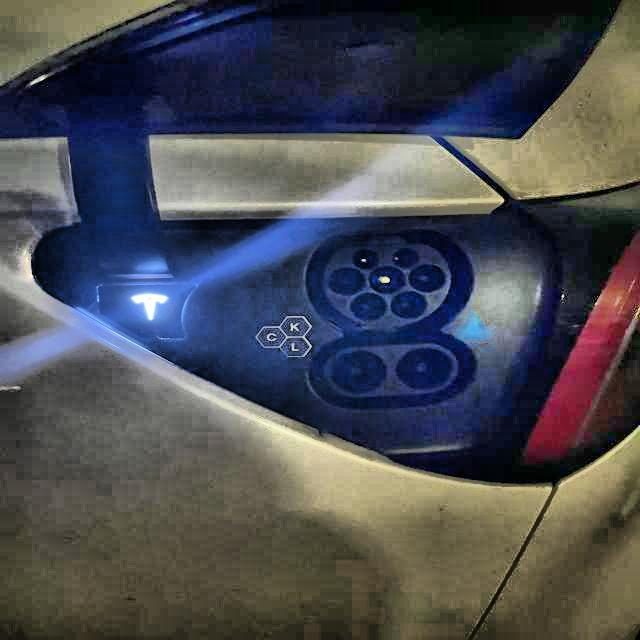inlet: (323, 243, 451, 327)
inlet-above-left: (353, 249, 380, 269)
inlet-above-right: (391, 248, 420, 267)
inlet-below-left: (351, 292, 389, 321)
inlet-below-right: (390, 291, 428, 320)
inlet-center: (368, 265, 406, 294)
inlet-center-left: (329, 268, 367, 295)
inlet-center-right: (408, 264, 446, 293)
